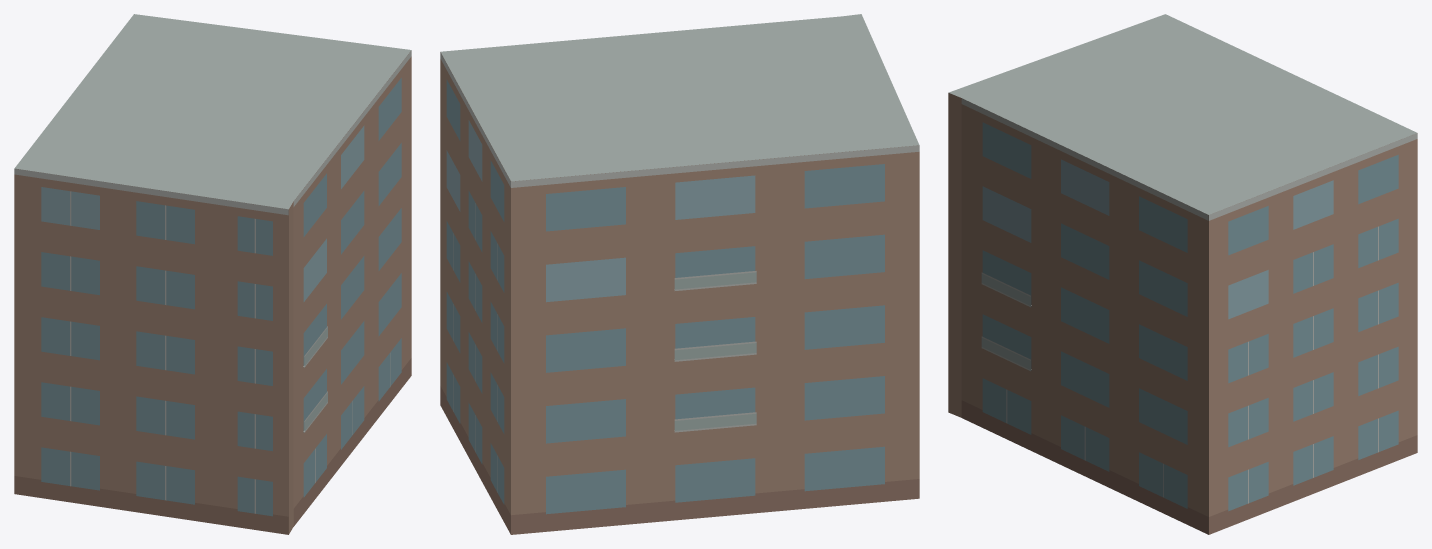
Rendered from survey-upis-33007786.glb.
The picture shows the model from 3 angles, left to right: view 1: azimuth 30°, elevation 25°; view 2: azimuth 150°, elevation 25°; view 3: azimuth 270°, elevation 25°; orthographic projection. The views are drawn at different scales.
Visible parts, largest first — view 1: survey-upis-33007786.tmp; view 2: survey-upis-33007786.tmp; view 3: survey-upis-33007786.tmp.
Part boxes in pixels (x1,y1,x2,y2): survey-upis-33007786.tmp: [14, 14, 411, 534]; survey-upis-33007786.tmp: [440, 14, 919, 534]; survey-upis-33007786.tmp: [948, 14, 1417, 534].
Bounding box in the file's own units: 17.8 × 13.2 × 17.56.
